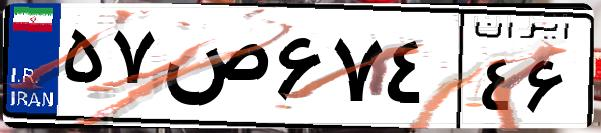4: (385, 28, 445, 110), (475, 38, 525, 113)
5: (57, 26, 110, 100)
6: (270, 28, 330, 110), (525, 38, 570, 115)
7: (330, 28, 385, 110), (110, 28, 158, 98)
ص: (158, 20, 270, 120)
